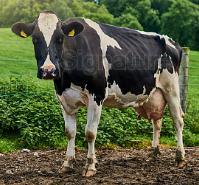cow: (12, 12, 186, 177)
